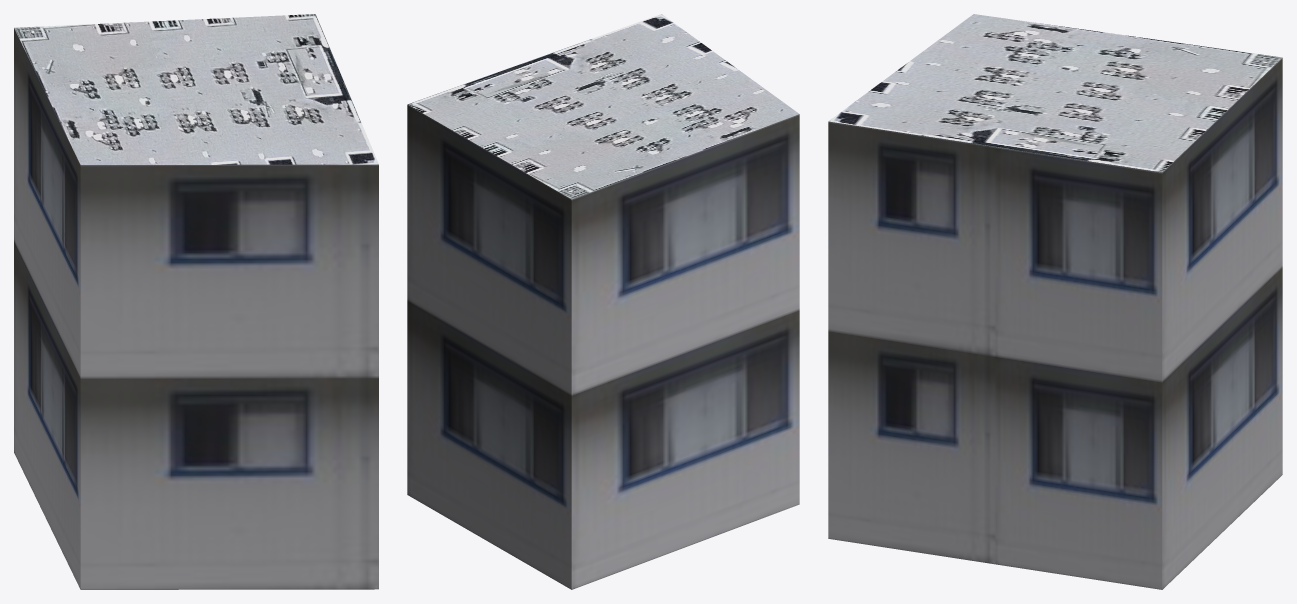
Rendered from ResTex__2737.fbx.
The picture shows the model from 3 angles, left to right: view 1: azimuth 30°, elevation 25°; view 2: azimuth 150°, elevation 25°; view 3: azimuth 270°, elevation 25°; orthographic projection. The views are drawn at different scales.
Parts seen in each view (by area): view 1: CityEngineMaterial_9_m, CityEngineMaterial_4_m; view 2: CityEngineMaterial_9_m, CityEngineMaterial_4_m; view 3: CityEngineMaterial_9_m, CityEngineMaterial_4_m.
Boxes of the visible parts, x1,y1,x2,y2 form: CityEngineMaterial_9_m: [14, 28, 378, 589]; CityEngineMaterial_4_m: [14, 14, 378, 164]; CityEngineMaterial_9_m: [407, 104, 799, 589]; CityEngineMaterial_4_m: [407, 14, 798, 199]; CityEngineMaterial_9_m: [828, 58, 1282, 589]; CityEngineMaterial_4_m: [828, 14, 1282, 172].
Bounding box in the file's own units: 4.89 × 6 × 5.92.
Materials: 2 (2 with a texture image).
